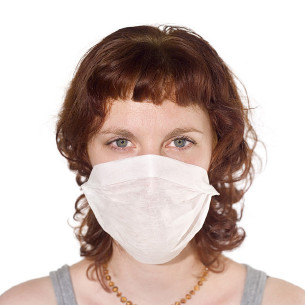face_mask: (86, 88, 210, 263)
